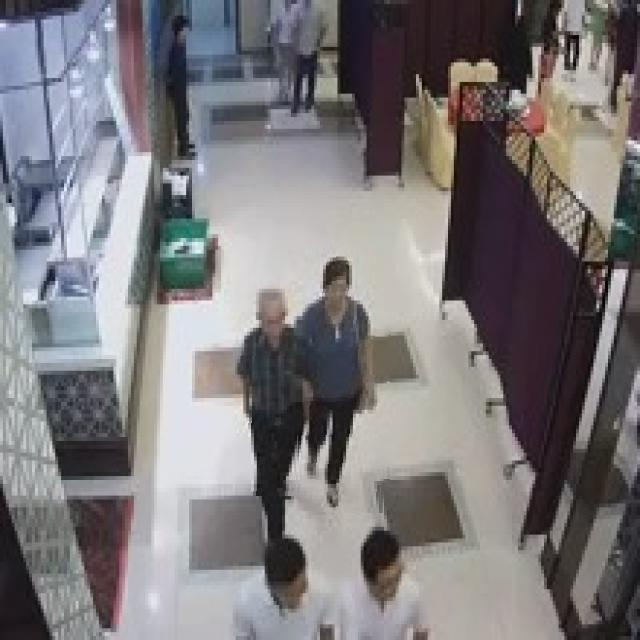normal: (302, 242, 390, 513), (236, 254, 302, 496)
